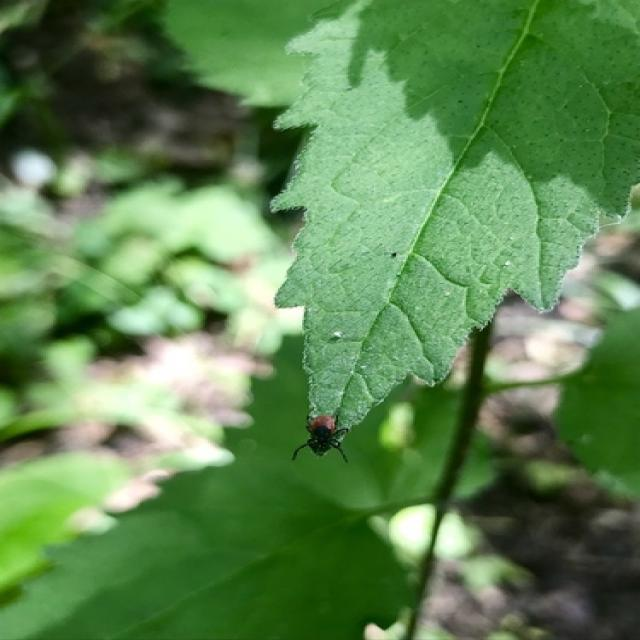Ixodes Ricinus-F: (292, 411, 352, 463)
